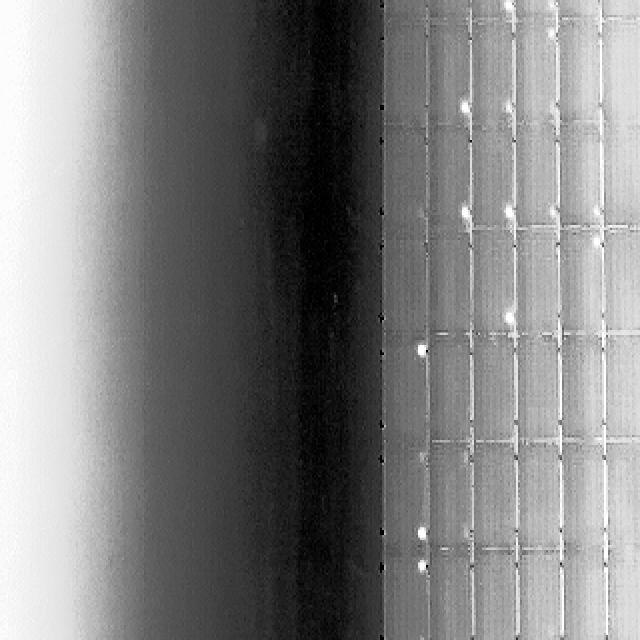Hotspots: (416, 341, 428, 362), (504, 309, 517, 328), (459, 204, 471, 224), (414, 524, 427, 542), (502, 96, 513, 117), (459, 97, 470, 117), (504, 204, 516, 222), (591, 235, 602, 254), (593, 201, 602, 220), (544, 0, 558, 12), (545, 28, 557, 42), (416, 558, 426, 574), (548, 205, 560, 218), (502, 0, 516, 11), (416, 632, 428, 640)
PV-modules: (383, 344, 429, 455), (560, 443, 607, 551), (555, 19, 602, 126), (424, 335, 470, 444), (512, 230, 558, 338), (556, 122, 603, 227), (559, 334, 605, 441), (471, 445, 517, 552), (426, 447, 472, 554), (558, 230, 604, 337), (425, 126, 471, 233), (511, 19, 556, 128), (518, 444, 563, 552), (383, 126, 428, 234), (383, 452, 429, 557), (471, 335, 516, 442), (425, 24, 471, 128), (382, 236, 428, 340), (518, 335, 563, 441), (471, 23, 516, 129), (425, 236, 471, 339), (472, 231, 516, 338), (381, 22, 425, 128), (470, 126, 515, 229), (512, 125, 557, 227), (560, 547, 608, 640), (470, 547, 518, 640), (600, 20, 640, 125), (424, 550, 470, 640), (518, 547, 562, 640), (600, 128, 640, 230), (380, 552, 426, 640), (604, 440, 640, 552), (602, 230, 640, 335), (604, 332, 640, 438), (606, 547, 640, 640), (425, 0, 472, 26), (384, 0, 430, 25), (506, 0, 555, 22), (554, 0, 602, 21), (472, 0, 513, 24), (600, 0, 640, 20)
